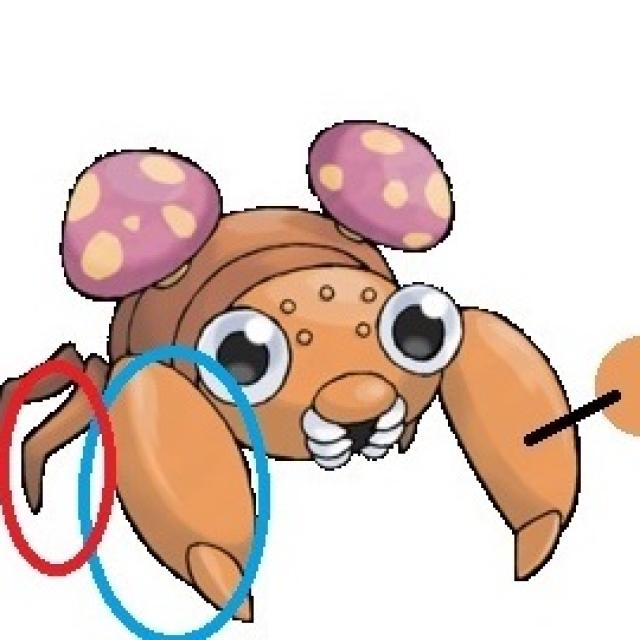Paras: (58, 119, 552, 546)
